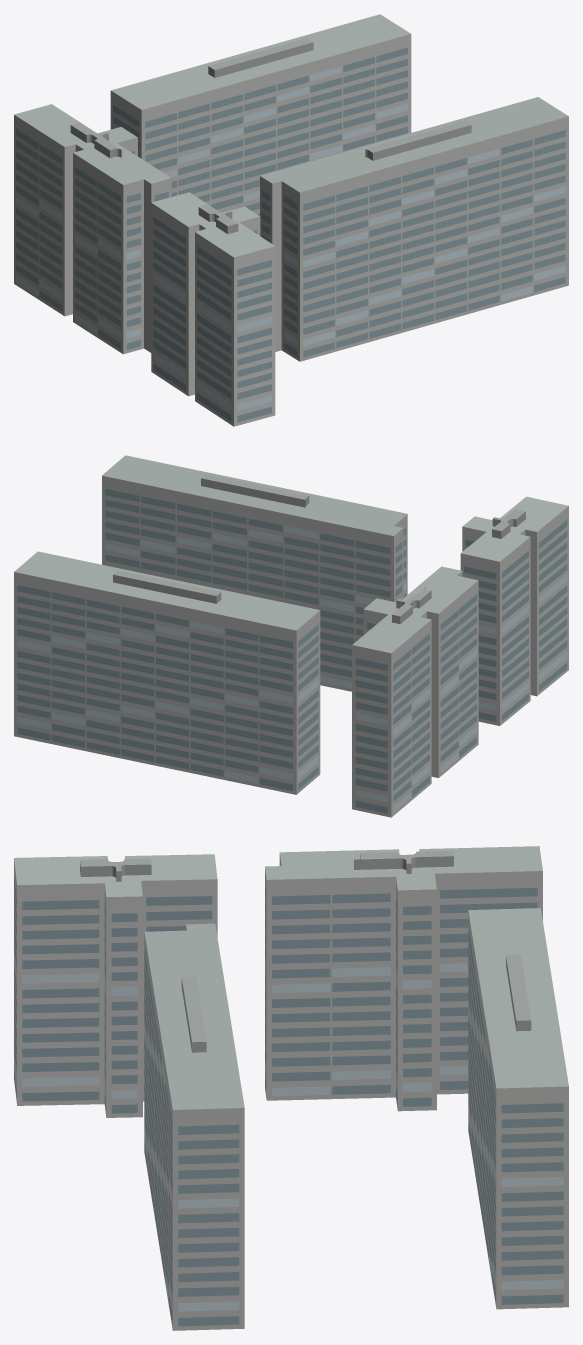
Rendered from apt-a13985105.glb.
3 views of the same model, one above another, from view 1: azimuth 30°, elevation 25°; view 2: azimuth 150°, elevation 25°; view 3: azimuth 270°, elevation 25° (orthographic). The views are drawn at different scales.
Visible parts, largest first — view 1: apt-a13985105; view 2: apt-a13985105; view 3: apt-a13985105.
Part boxes in pixels (<box>): apt-a13985105: <box>14,14,568,426</box>; apt-a13985105: <box>14,455,568,817</box>; apt-a13985105: <box>14,846,568,1330</box>.
Bounding box in the file's own units: 97.88 × 40 × 87.
